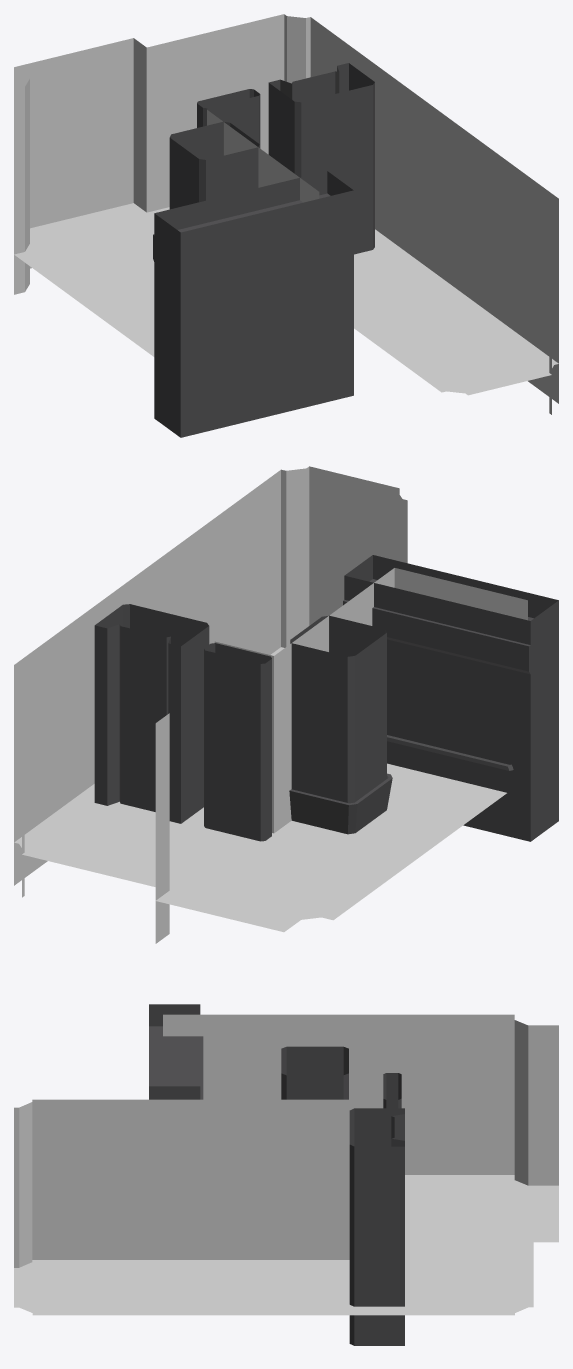
The model's file is colliders.glb.
3 renders of one model, top to bottom at view 1: azimuth 30°, elevation 25°; view 2: azimuth 150°, elevation 25°; view 3: azimuth 270°, elevation 25°, orthographic. The views are drawn at different scales.
Parts seen in each view (by area): view 1: BCOLLIDER_walls, VCOLLIDER_kitchen_1, BCOLLIDER_floor, OCOLLIDER_kitchen_1, VCOLLIDER_desk_1, VCOLLIDER_square_table_1, VCOLLIDER_plant_vase_1; view 2: BCOLLIDER_walls, BCOLLIDER_floor, VCOLLIDER_kitchen_1, VCOLLIDER_desk_1, VCOLLIDER_square_table_1, VCOLLIDER_plant_vase_1, OCOLLIDER_kitchen_1, OCOLLIDER_square_table_1, OCOLLIDER_plant_vase_1, OCOLLIDER_desk_1; view 3: BCOLLIDER_walls, BCOLLIDER_floor, VCOLLIDER_desk_1, VCOLLIDER_square_table_1, OCOLLIDER_kitchen_1, VCOLLIDER_kitchen_1, VCOLLIDER_plant_vase_1.
Boxes of the visible parts, x1,y1,x2,y2 form: BCOLLIDER_walls: (14, 14, 558, 414); VCOLLIDER_kitchen_1: (154, 171, 353, 437); BCOLLIDER_floor: (14, 203, 558, 395); OCOLLIDER_kitchen_1: (153, 193, 353, 435); VCOLLIDER_desk_1: (268, 63, 374, 254); VCOLLIDER_square_table_1: (169, 121, 259, 209); VCOLLIDER_plant_vase_1: (197, 89, 260, 148); BCOLLIDER_walls: (14, 466, 527, 943); BCOLLIDER_floor: (14, 647, 506, 932); VCOLLIDER_kitchen_1: (344, 555, 558, 841); VCOLLIDER_desk_1: (94, 604, 209, 823); VCOLLIDER_square_table_1: (290, 615, 386, 803); VCOLLIDER_plant_vase_1: (204, 643, 271, 841); OCOLLIDER_kitchen_1: (343, 579, 550, 834); OCOLLIDER_square_table_1: (289, 773, 392, 834); OCOLLIDER_plant_vase_1: (204, 798, 271, 841); OCOLLIDER_desk_1: (101, 785, 190, 823); BCOLLIDER_walls: (14, 1014, 558, 1267); BCOLLIDER_floor: (14, 1175, 558, 1315); VCOLLIDER_desk_1: (349, 1108, 404, 1345); VCOLLIDER_square_table_1: (281, 1046, 348, 1099); OCOLLIDER_kitchen_1: (149, 1026, 203, 1099); VCOLLIDER_kitchen_1: (149, 1004, 200, 1099); VCOLLIDER_plant_vase_1: (383, 1073, 401, 1108).
Bounding box in the file's own units: 8.28 × 5.1 × 12.64.
8 materials, 8 textured.
